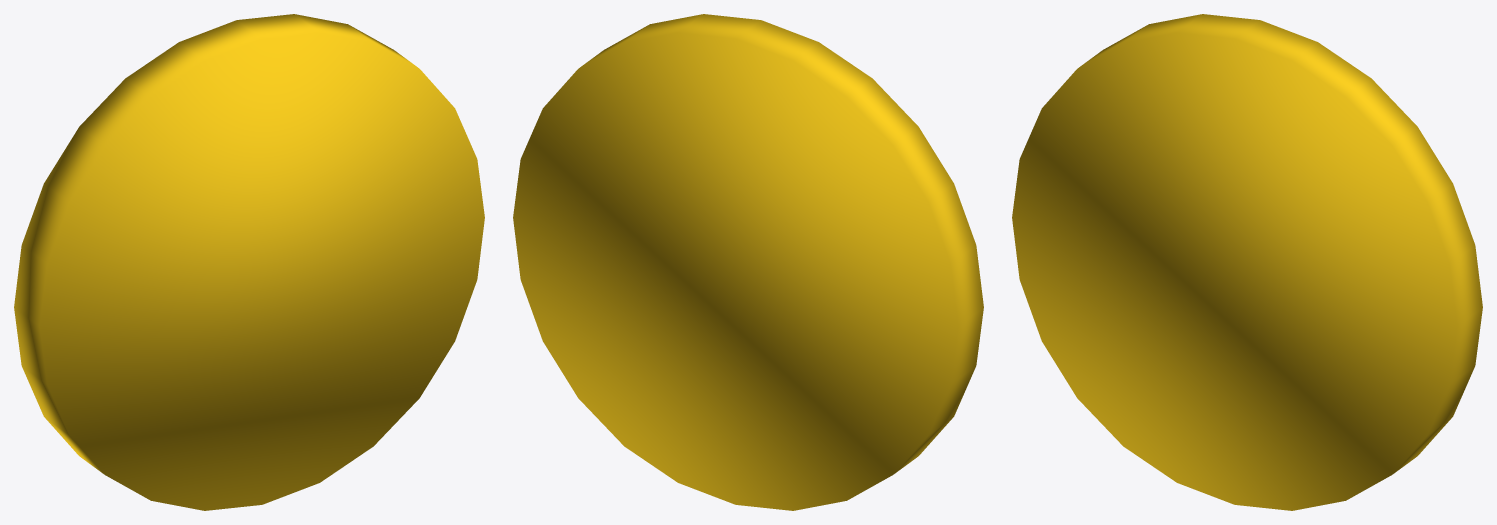
The model's file is coin.glb.
3 views of the same model, side by side, from view 1: azimuth 30°, elevation 25°; view 2: azimuth 150°, elevation 25°; view 3: azimuth 330°, elevation 25° (orthographic).
Visible parts, largest first — view 1: Coin.001; view 2: Coin.001; view 3: Coin.001.
Part boxes in pixels (bbox=[...]): Coin.001: bbox=[14, 14, 484, 510]; Coin.001: bbox=[513, 14, 983, 510]; Coin.001: bbox=[1012, 14, 1482, 510].
Bounding box in the file's own units: 0.8 × 0.8 × 0.08.
